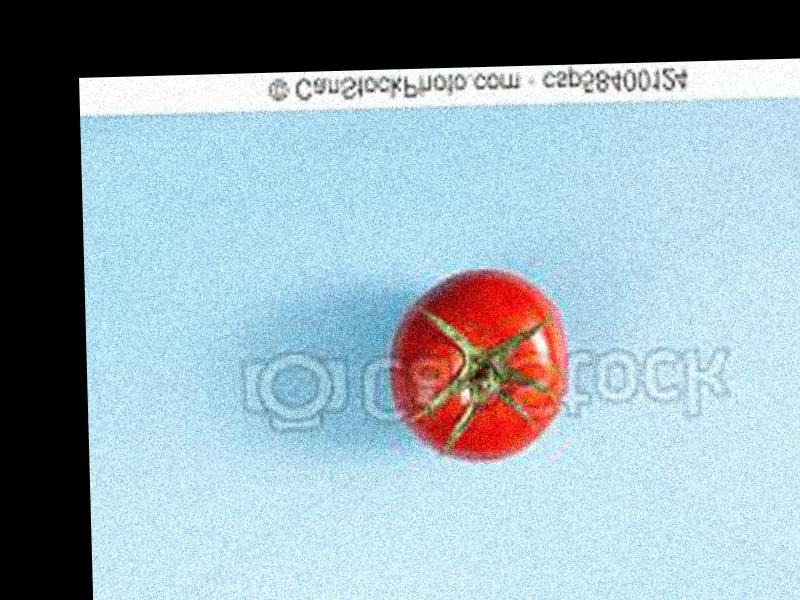Tomato: (391, 264, 568, 462)
